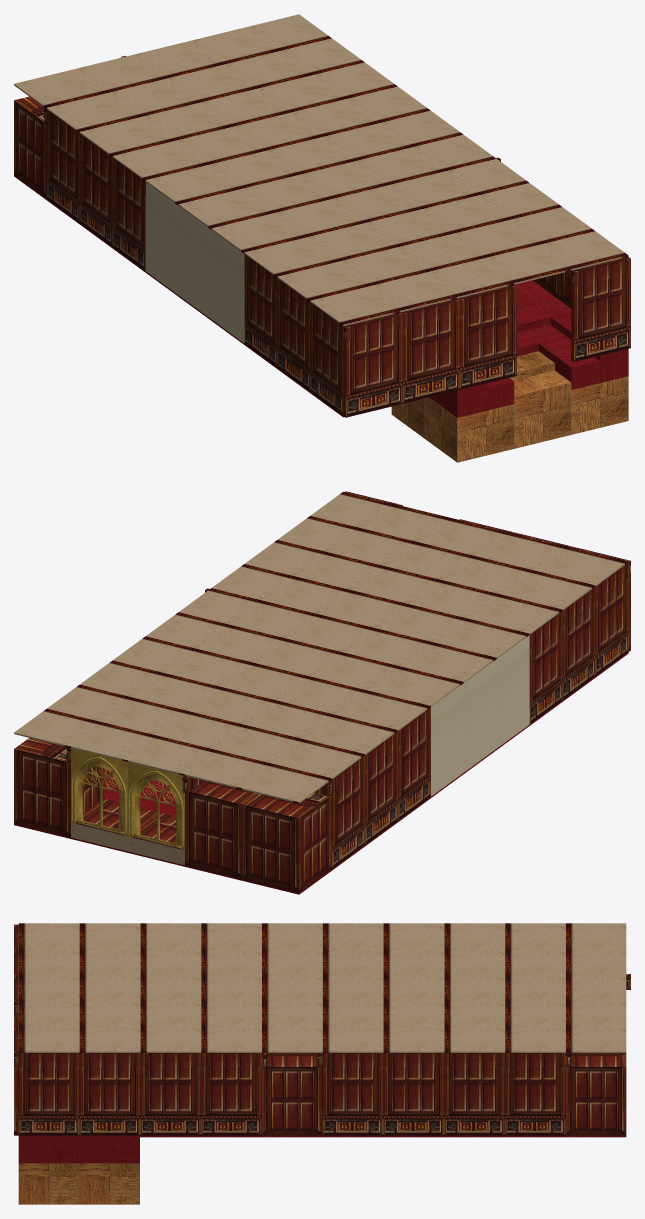
The model's file is Library.fbx.
The picture shows the model from 3 angles, top to bottom: view 1: azimuth 30°, elevation 25°; view 2: azimuth 150°, elevation 25°; view 3: azimuth 270°, elevation 25°; orthographic projection. The views are drawn at different scales.
Parts seen in each view (by area): view 1: LibraryCeiling, LibraryStairs, LibraryWallB0Front.001, LibraryWallB0Left.002, LibraryWallB0Left, LibraryWallB0Left.001, LibraryWallB0Front, LibraryWallB1Front, LibraryWallB0Right.005, LibraryWallB1Left, LibraryWallB1Left.001, LibraryWallB1Front.001 (+3 smaller); view 2: LibraryCeiling, LibraryWallB0Right.005, LibraryWallB0Left.002, LibraryWallB0Left, LibraryWallB0Left.001, LibraryWallB0Right.006, LibraryWallB0Right.002, LibraryWallB0Right.003, LibraryWallB1Left, LibraryWallB1Left.001, LibraryFloor.001, LibraryFloor; view 3: LibraryCeiling, LibraryWallB0Right.001, LibraryWallB0Right, LibraryStairs, LibraryWallB0Right.002, LibraryWallB0Right.004, LibraryWallB1Right.001, LibraryWallB1Right, LibraryFloor.001, LibraryWallB1Front.
Boxes of the visible parts, box(x1,y1,x2,y2) form: LibraryCeiling: box(14, 14, 628, 326); LibraryStairs: box(391, 299, 628, 462); LibraryWallB0Front.001: box(343, 301, 516, 417); LibraryWallB0Left.002: box(145, 182, 244, 343); LibraryWallB0Left: box(244, 269, 343, 415); LibraryWallB0Left.001: box(47, 124, 145, 270); LibraryWallB0Front: box(571, 273, 630, 361); LibraryWallB1Front: box(343, 284, 516, 342); LibraryWallB0Right.005: box(14, 96, 46, 198); LibraryWallB1Left: box(244, 254, 347, 340); LibraryWallB1Left.001: box(47, 110, 145, 196); LibraryWallB1Front.001: box(571, 257, 630, 287); LibraryCeiling: box(14, 491, 628, 803); LibraryWallB0Right.005: box(185, 780, 331, 892); LibraryWallB0Left.002: box(431, 635, 529, 796); LibraryWallB0Left: box(529, 578, 628, 723); LibraryWallB0Left.001: box(332, 722, 430, 868); LibraryWallB0Right.006: box(71, 748, 184, 850); LibraryWallB0Right.002: box(14, 738, 103, 837); LibraryWallB0Right.003: box(71, 798, 184, 865); LibraryWallB1Left: box(529, 563, 628, 649); LibraryWallB1Left.001: box(332, 707, 430, 794); LibraryFloor.001: box(14, 768, 184, 866); LibraryFloor: box(185, 652, 628, 894); LibraryCeiling: box(18, 923, 626, 1052); LibraryWallB0Right.001: box(322, 1067, 565, 1135); LibraryWallB0Right: box(18, 1067, 261, 1135); LibraryStairs: box(18, 1135, 139, 1204); LibraryWallB0Right.002: box(565, 1053, 626, 1135); LibraryWallB0Right.004: box(261, 1053, 322, 1135); LibraryWallB1Right.001: box(322, 1053, 565, 1066); LibraryWallB1Right: box(18, 1053, 261, 1066); LibraryFloor.001: box(140, 1135, 626, 1137); LibraryWallB1Front: box(14, 924, 18, 1015).
Size of the model in its own units: 1015 by 555 by 2030.
